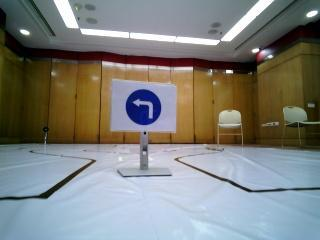left: (116, 84, 173, 130)
